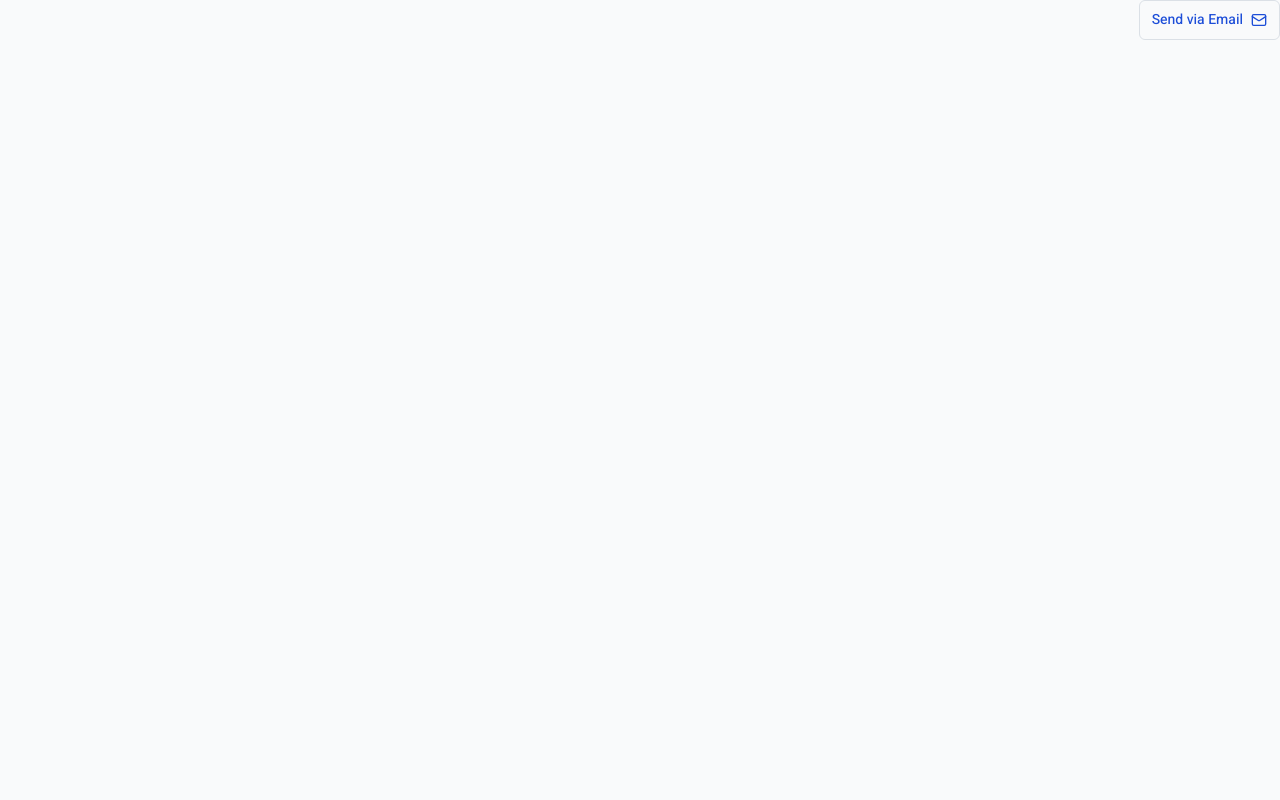
Test: EmailComposer › shows Open in Mail App and Gmail buttons
The image size is (1280, 800).
Click the button "Send via Email".
click(1209, 20)  # box x1=1139 y1=0 x2=1279 y2=40
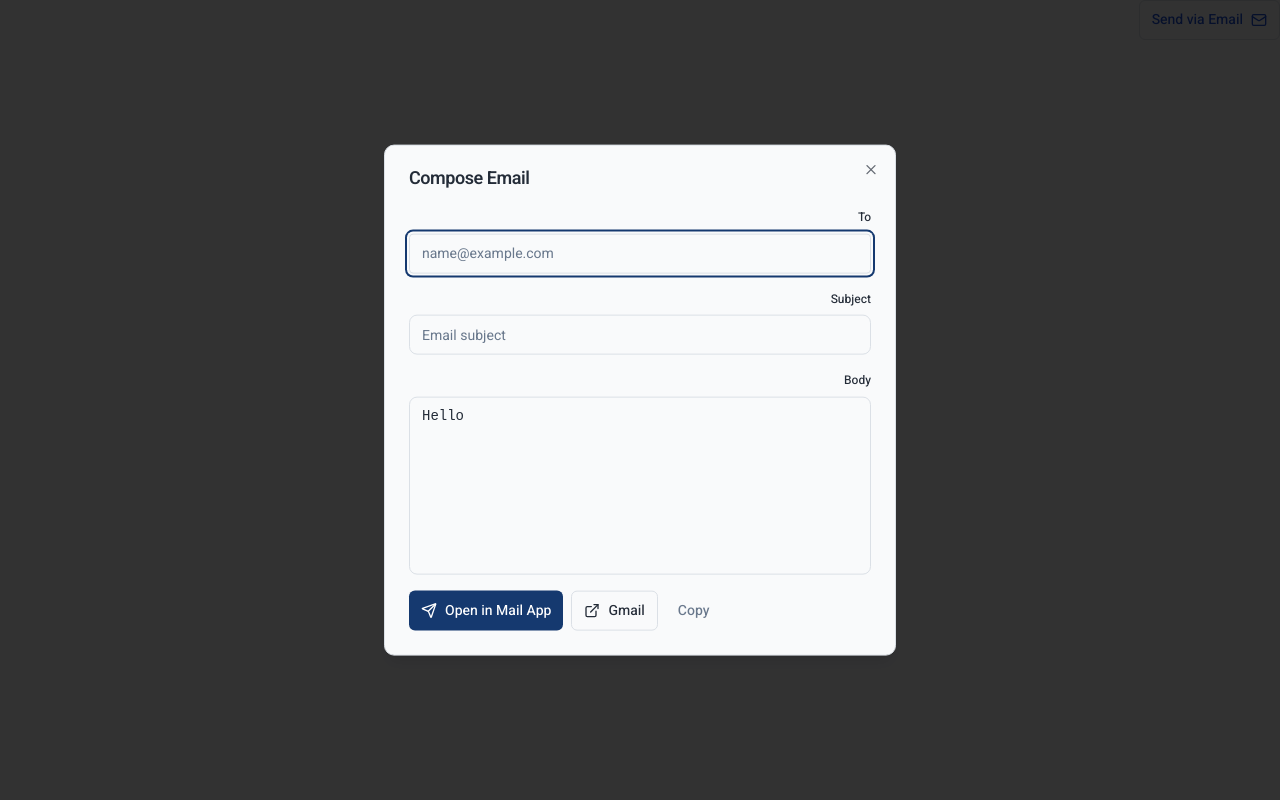
Expected: the button "Open in Mail App" is shown, x1=409 y1=590 x2=563 y2=630
Expected: the button "Gmail" is shown, x1=571 y1=590 x2=658 y2=630
